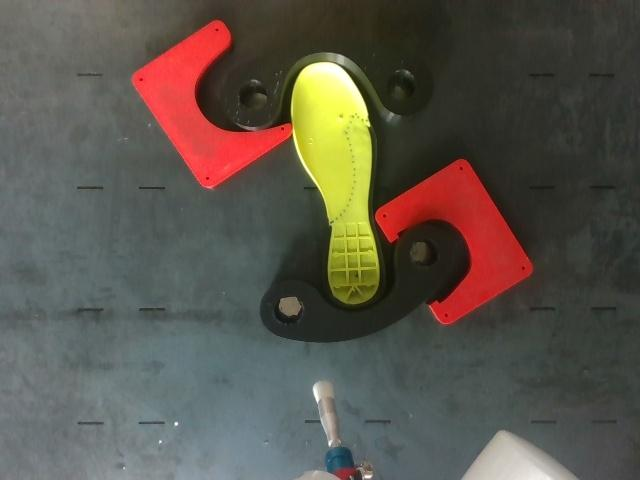shoes: (292, 62, 385, 308)
